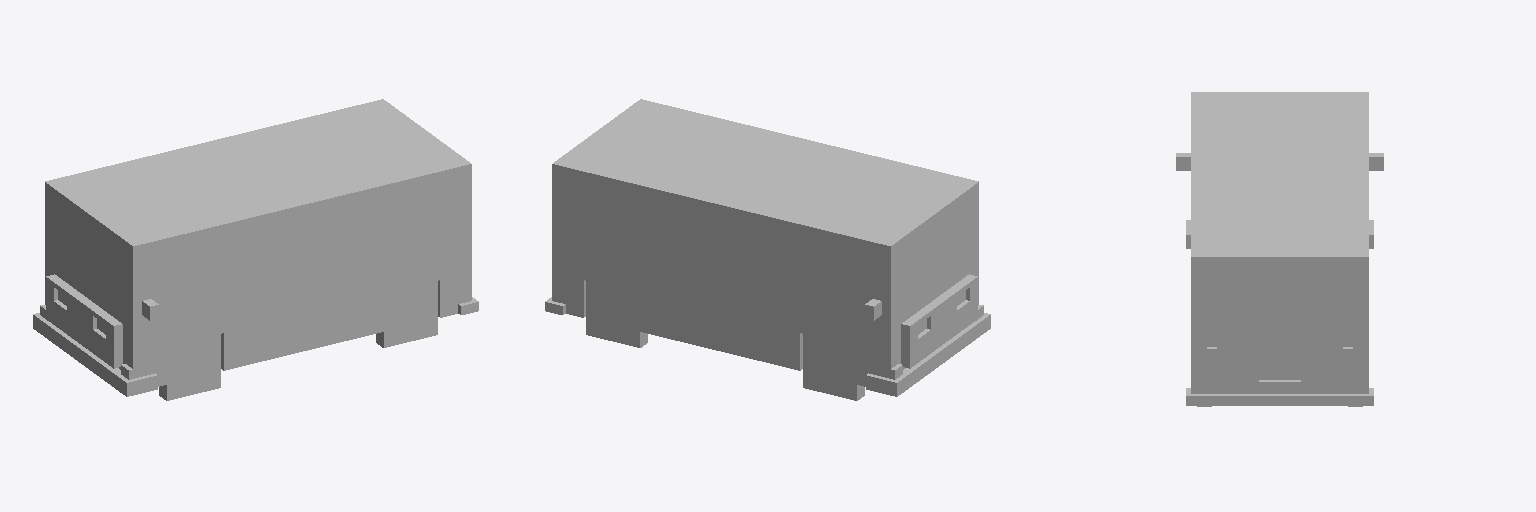
Rendered from alll cars3-97.obj.
3 renders of one model, left to right at view 1: azimuth 30°, elevation 25°; view 2: azimuth 150°, elevation 25°; view 3: azimuth 270°, elevation 25°, orthographic.
Parts seen in each view (by area): view 1: object 1; view 2: object 1; view 3: object 1.
Boxes of the visible parts, x1,y1,x2,y2 form: object 1: [33, 99, 478, 400]; object 1: [545, 99, 990, 400]; object 1: [1176, 92, 1383, 406].
Bounding box in the file's own units: 7.8 × 3.5 × 4.